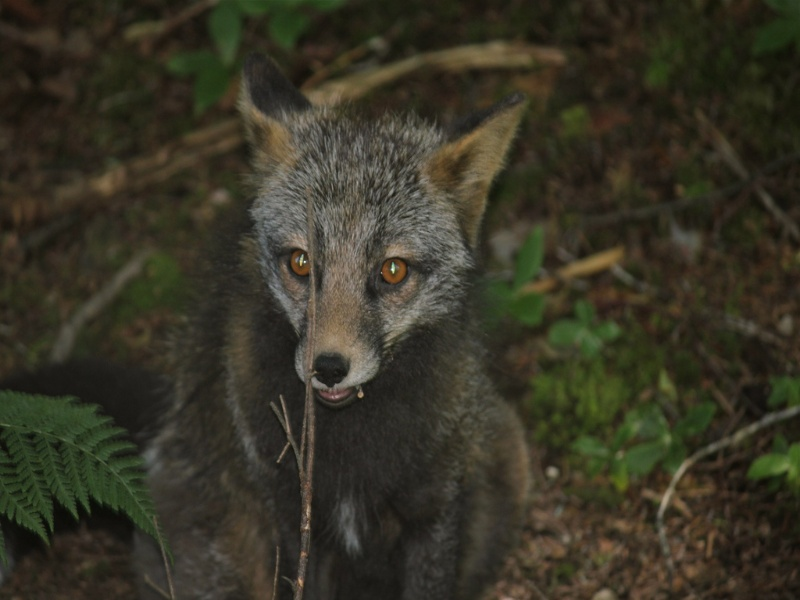fox: (136, 62, 536, 586)
